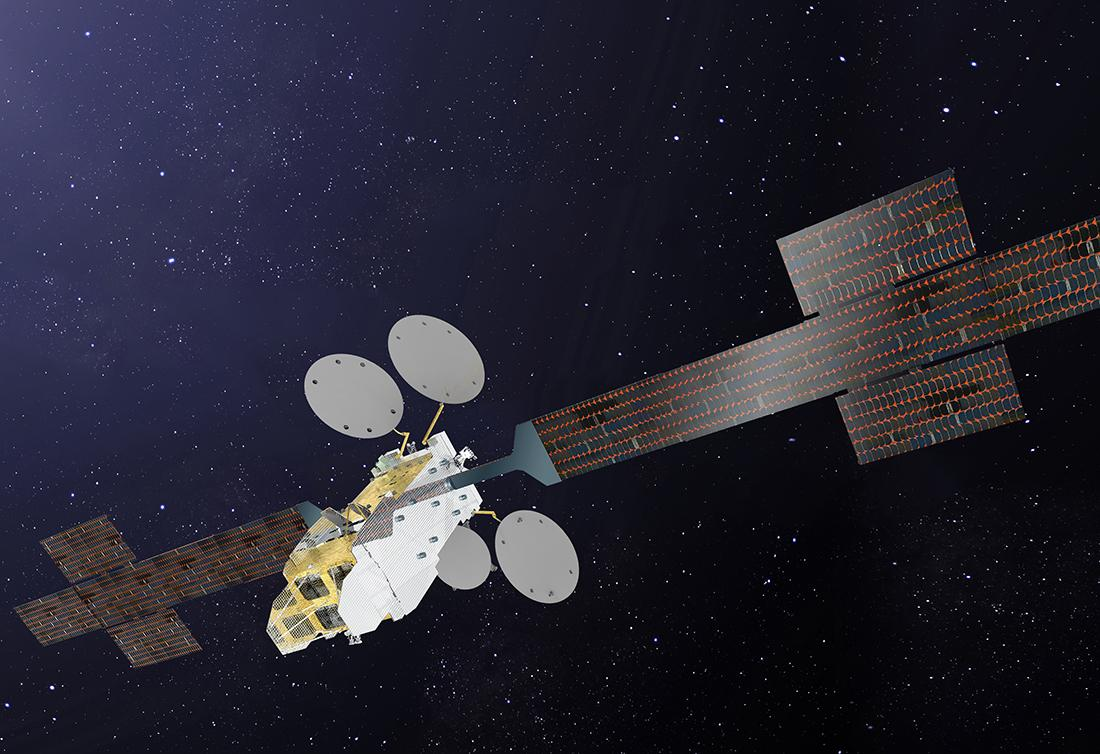antenna: (386, 310, 490, 407), (302, 351, 407, 442), (493, 508, 584, 606), (434, 523, 494, 592)
body: (261, 429, 486, 659)
solar: (528, 256, 996, 484), (775, 163, 981, 317), (71, 503, 312, 631), (834, 342, 1029, 467), (977, 210, 1100, 341), (36, 510, 142, 587), (108, 605, 205, 672), (13, 584, 106, 650)
